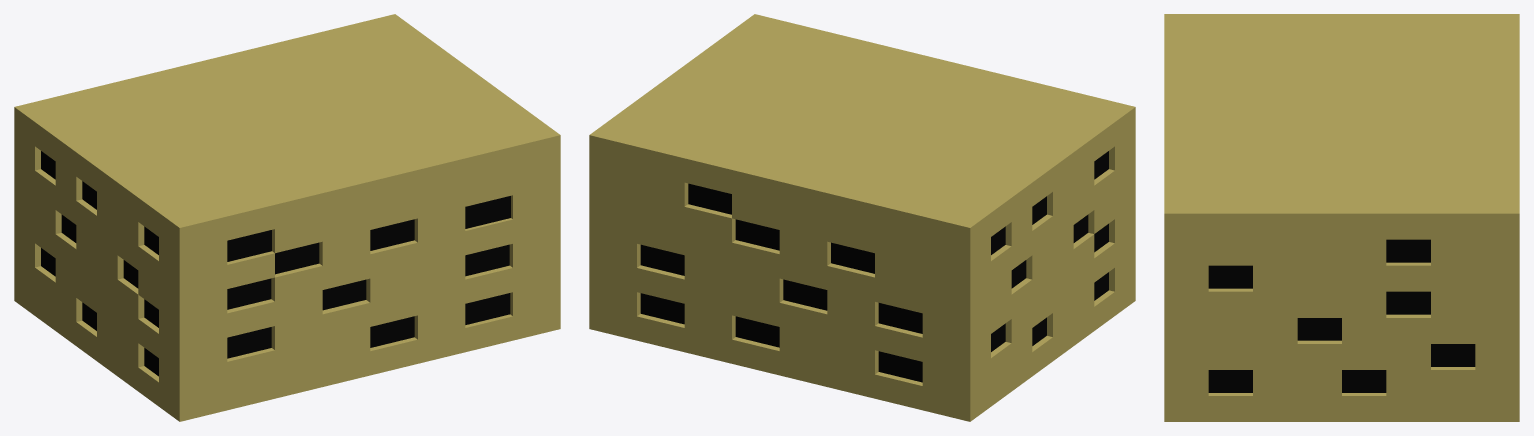
File: building 8 (black windows).fbx
The picture shows the model from 3 angles, left to right: view 1: azimuth 30°, elevation 25°; view 2: azimuth 150°, elevation 25°; view 3: azimuth 270°, elevation 25°; orthographic projection. The views are drawn at different scales.
Visible parts, largest first — view 1: Cube; view 2: Cube; view 3: Cube.
Boxes of the visible parts, x1=… form: Cube: x1=14, y1=14, x2=560, y2=421; Cube: x1=589, y1=14, x2=1135, y2=421; Cube: x1=1164, y1=14, x2=1519, y2=421.
Size of the model in its own units: 1675 by 815 by 1260.
